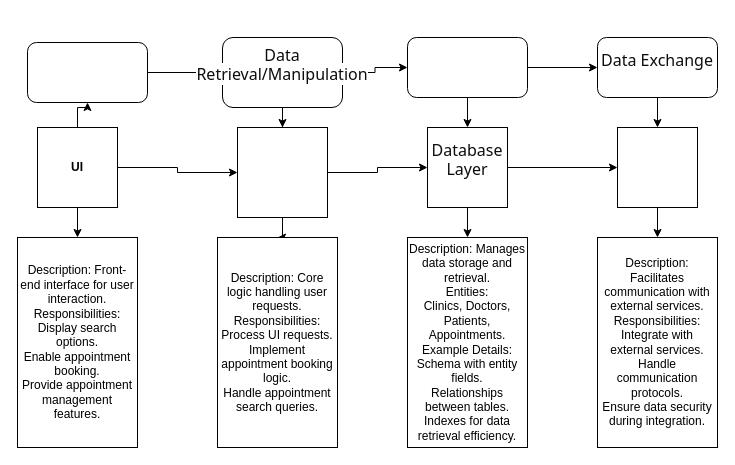
This 735x465 diagram has some shape labels left out. Here are the shapes that lost their labels. From the top down, the box of each, then its label:
(26, 42, 148, 102): User Requests
(406, 36, 528, 98): External Service Integration
(236, 126, 328, 218): Application Layer
(616, 126, 698, 208): Integration Layer
